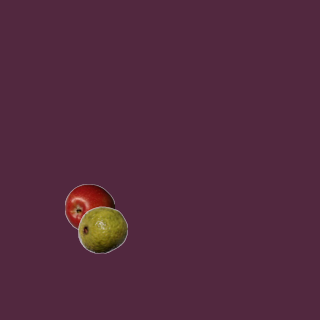Apple Braeburn: (64, 183, 114, 233)
Guava: (77, 204, 127, 254)
